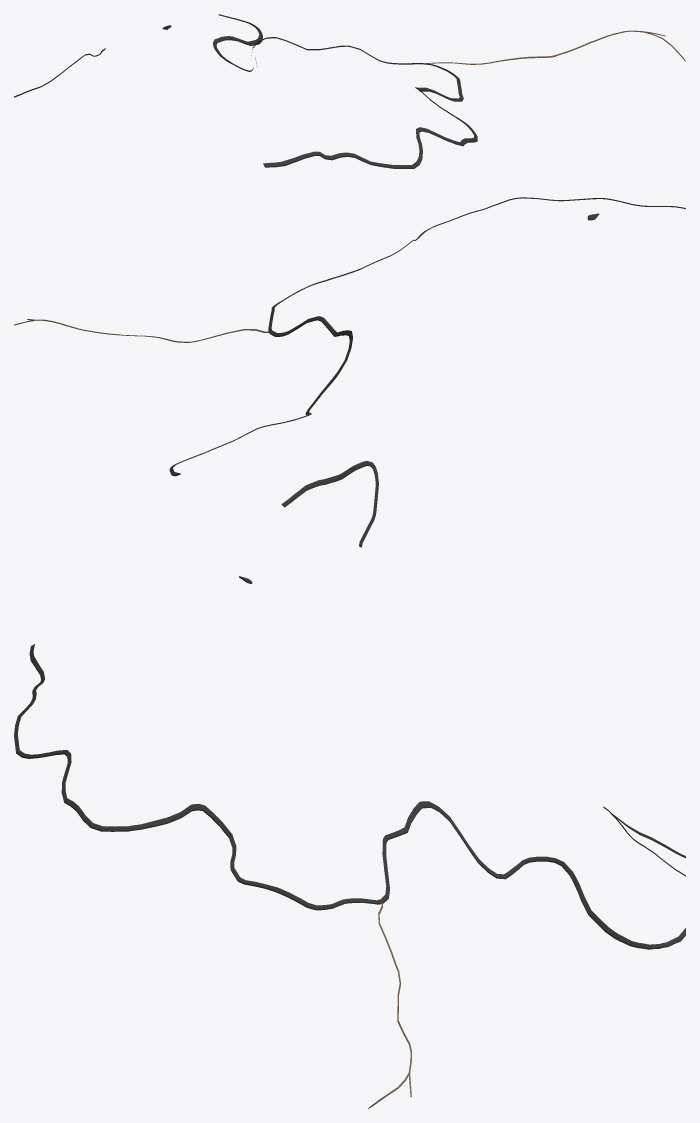
3 renders of one model, top to bottom at view 1: azimuth 30°, elevation 25°; view 2: azimuth 150°, elevation 25°; view 3: azimuth 270°, elevation 25°, orthographic. The views are drawn at different scales.
Bounding box in the file's own units: 587 × 230 × 555.
